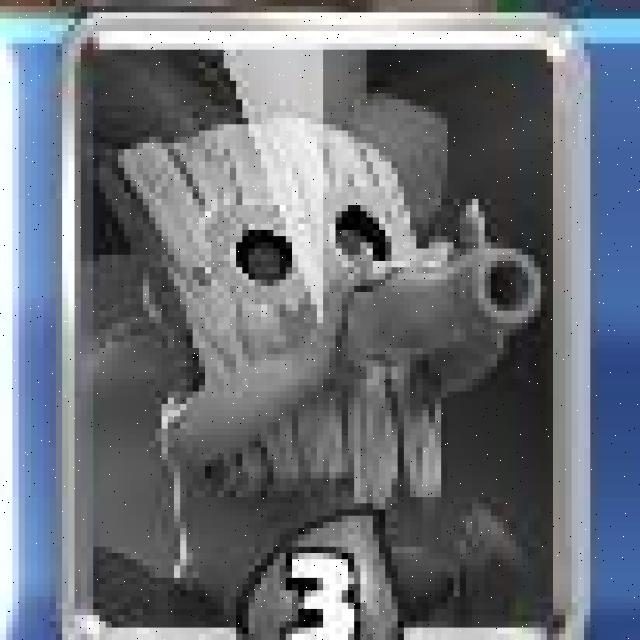Dart_Goblin: (53, 12, 593, 634)
